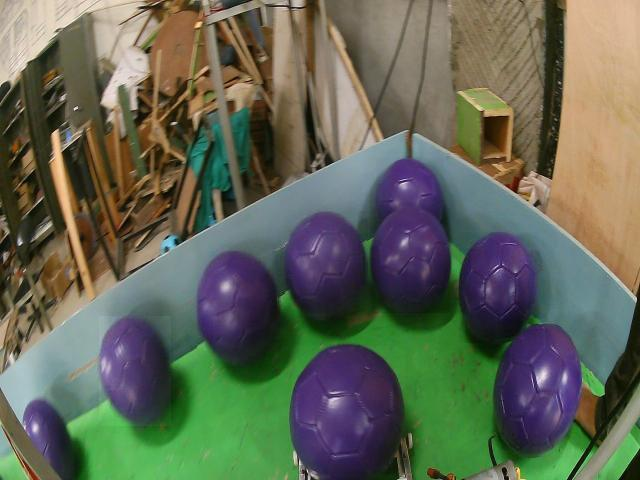jambhalya: (290, 345, 405, 478), (494, 325, 581, 456), (197, 252, 278, 364), (286, 212, 367, 319), (460, 232, 537, 343), (372, 207, 451, 313), (99, 316, 171, 426), (23, 398, 75, 480), (376, 158, 444, 220)
